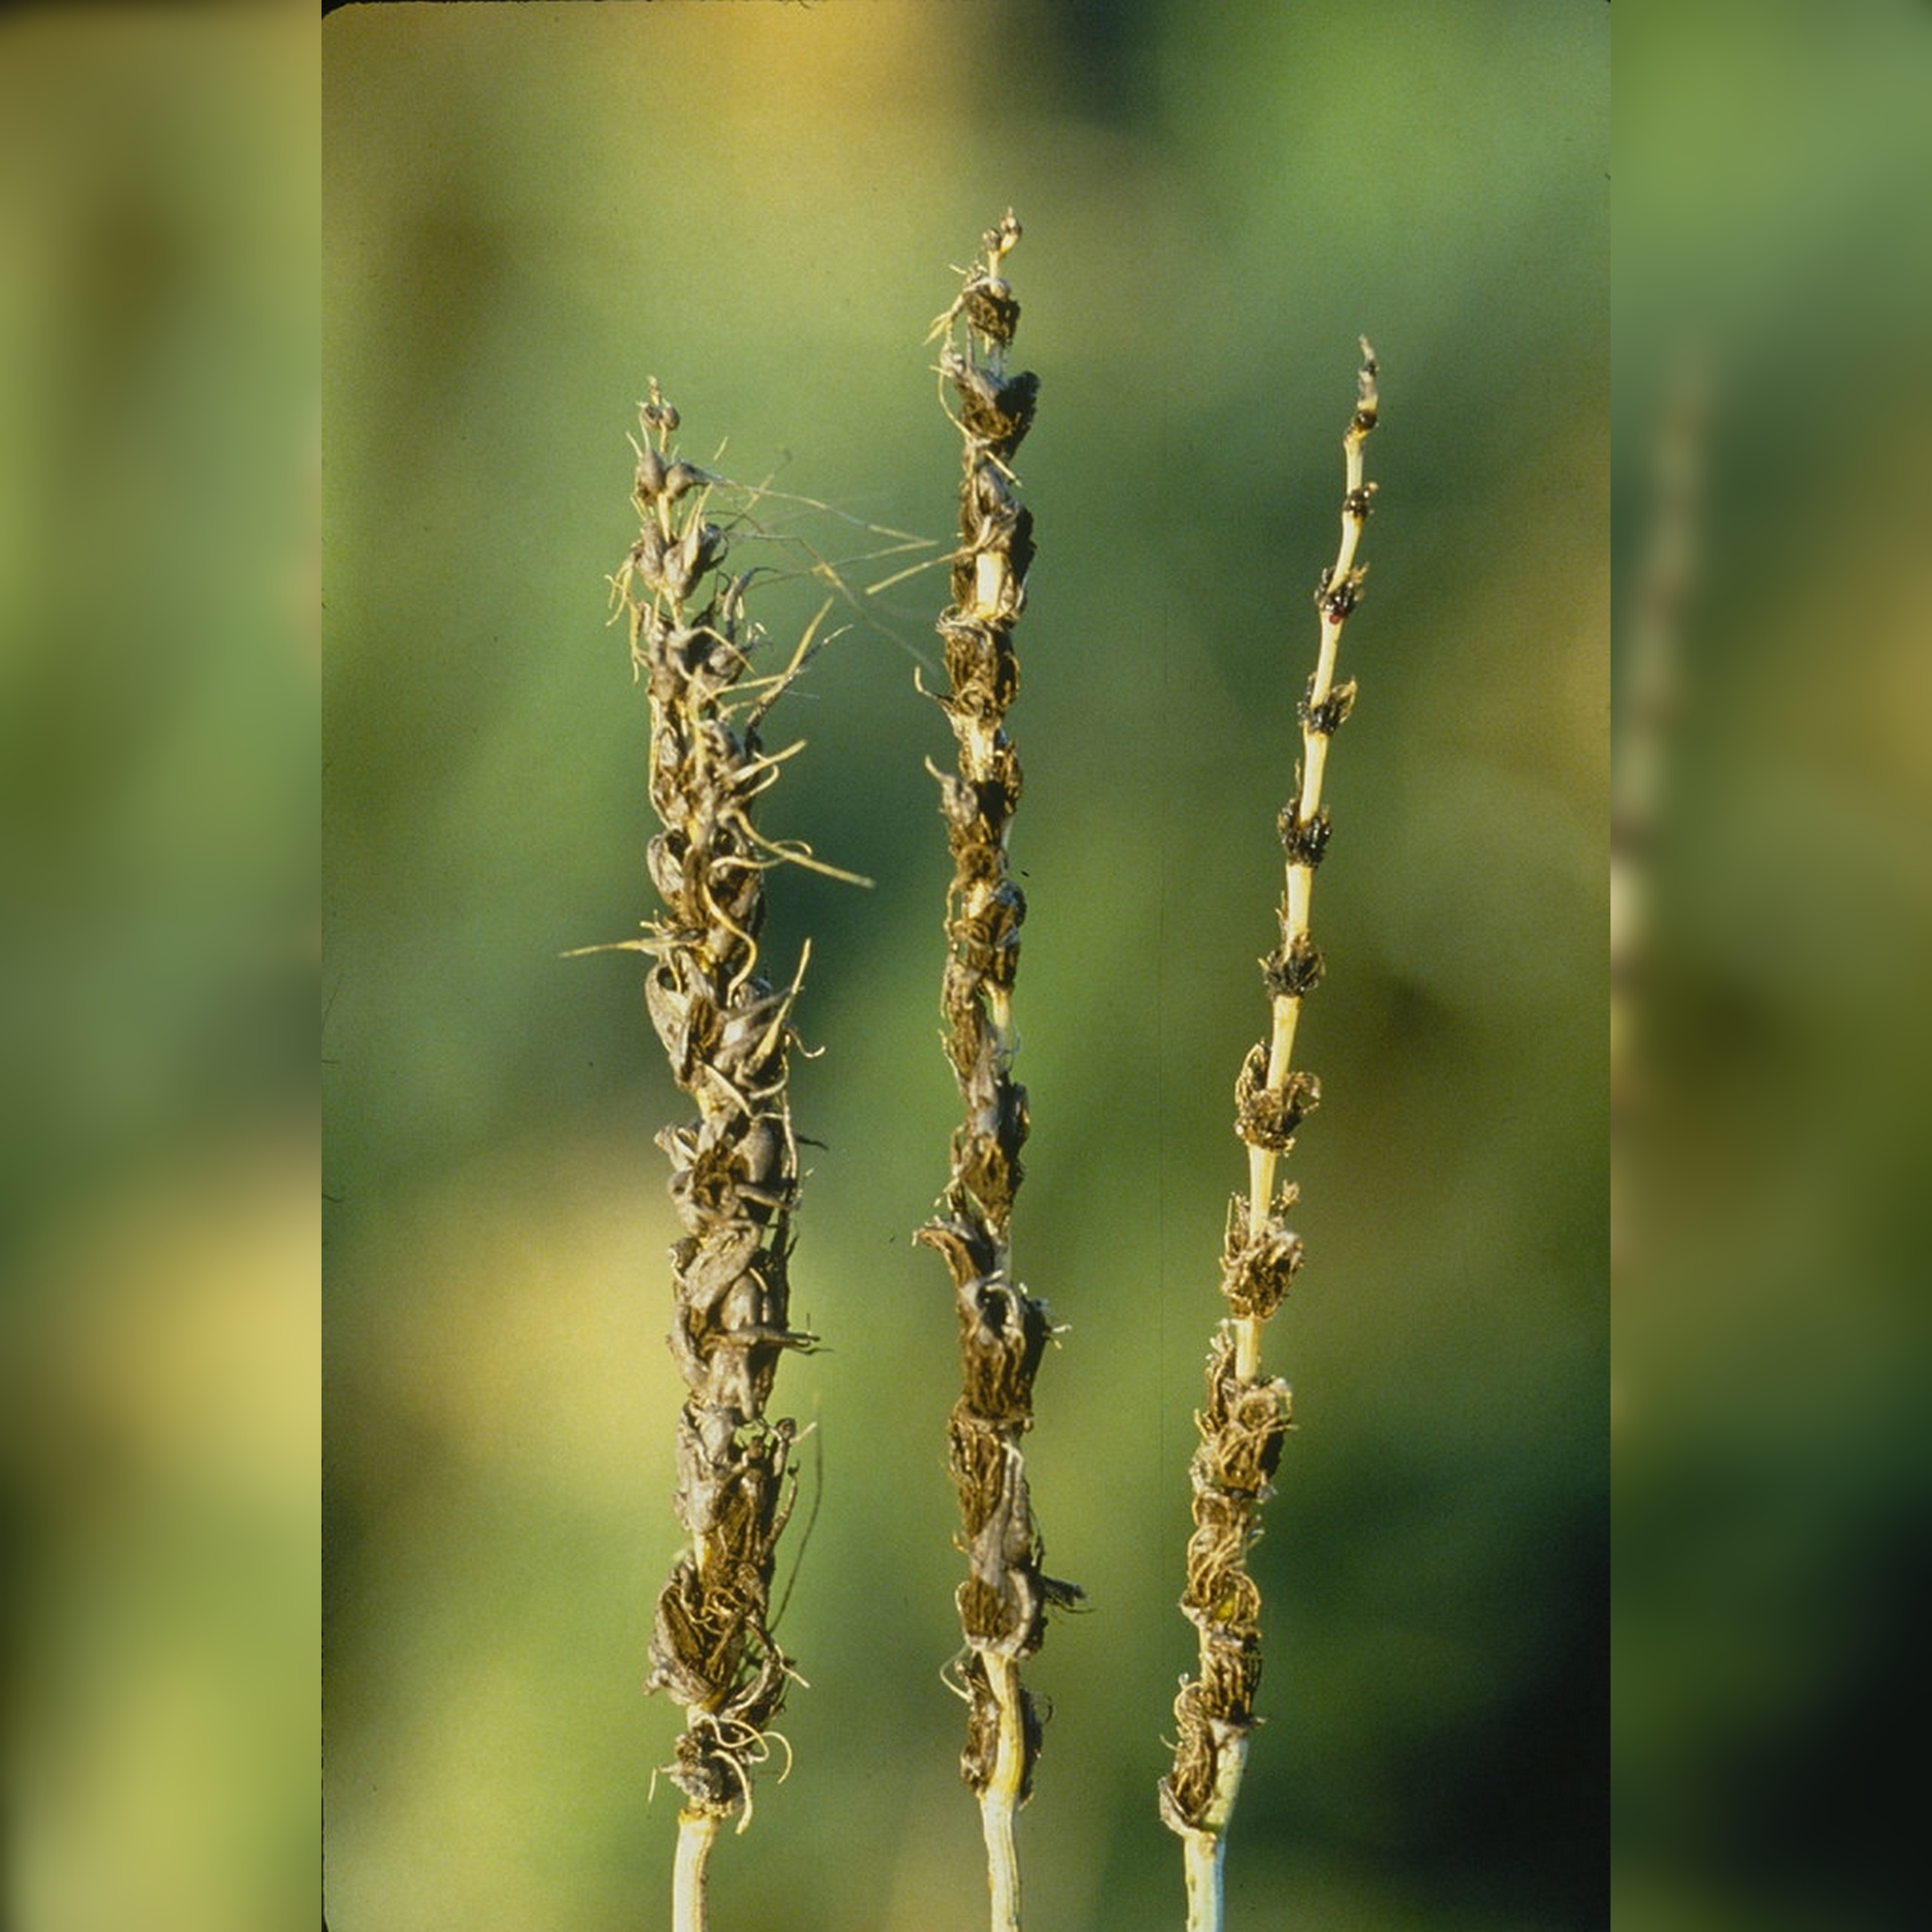Wheat Loose Smut: (869, 218, 1111, 1787), (573, 306, 821, 1826)
